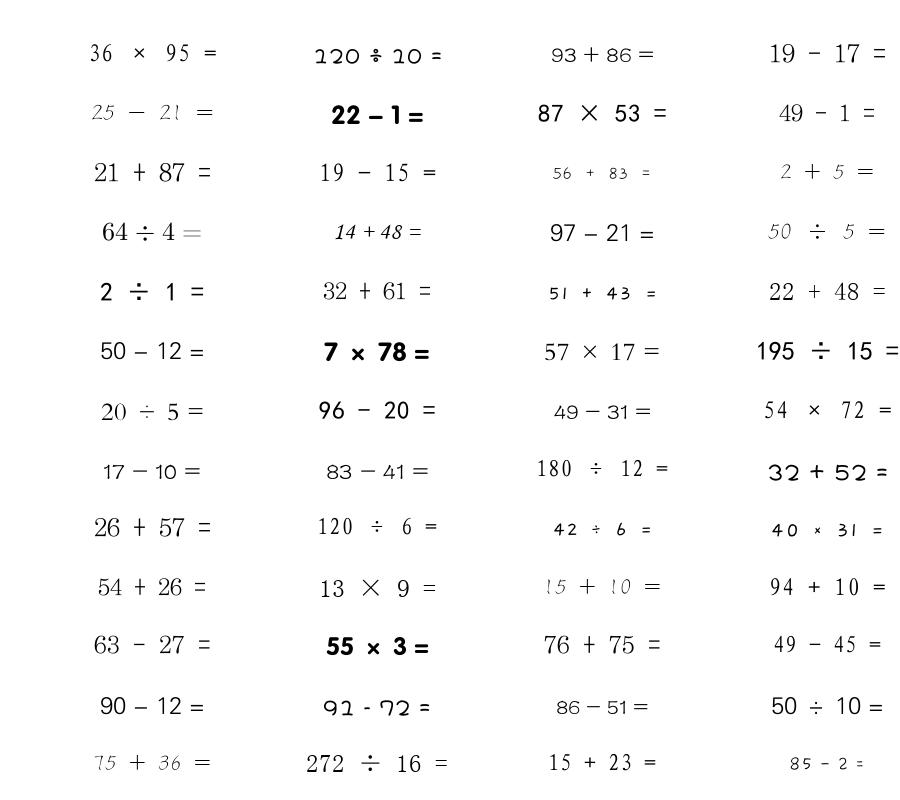MQ: (756, 341, 899, 360), (306, 754, 448, 772), (536, 459, 668, 477), (769, 43, 886, 63), (94, 162, 211, 182), (94, 517, 211, 537), (88, 44, 217, 62), (538, 104, 667, 122), (763, 401, 892, 419), (319, 163, 436, 182), (319, 401, 436, 420), (94, 635, 211, 654), (544, 635, 661, 654), (317, 517, 437, 535), (324, 342, 430, 362), (769, 282, 886, 300), (319, 579, 436, 597), (769, 578, 886, 596), (91, 104, 214, 121), (544, 343, 660, 361), (313, 48, 442, 64), (326, 636, 429, 656), (767, 464, 888, 481), (771, 697, 884, 715), (100, 282, 204, 301), (323, 282, 431, 300), (98, 578, 206, 596), (773, 635, 881, 653), (548, 753, 656, 771), (102, 222, 202, 241), (550, 224, 655, 242), (100, 342, 205, 360), (100, 697, 205, 715), (768, 223, 886, 239), (543, 579, 661, 595), (93, 755, 211, 771), (101, 403, 204, 421), (331, 105, 424, 124), (551, 46, 654, 63), (779, 104, 875, 122), (323, 700, 431, 716), (326, 464, 429, 480), (770, 523, 884, 537), (103, 464, 201, 479), (554, 405, 651, 420), (547, 287, 658, 300), (552, 522, 653, 536), (780, 164, 874, 179), (333, 224, 421, 240), (552, 167, 652, 180), (556, 700, 648, 714), (789, 757, 865, 771)
